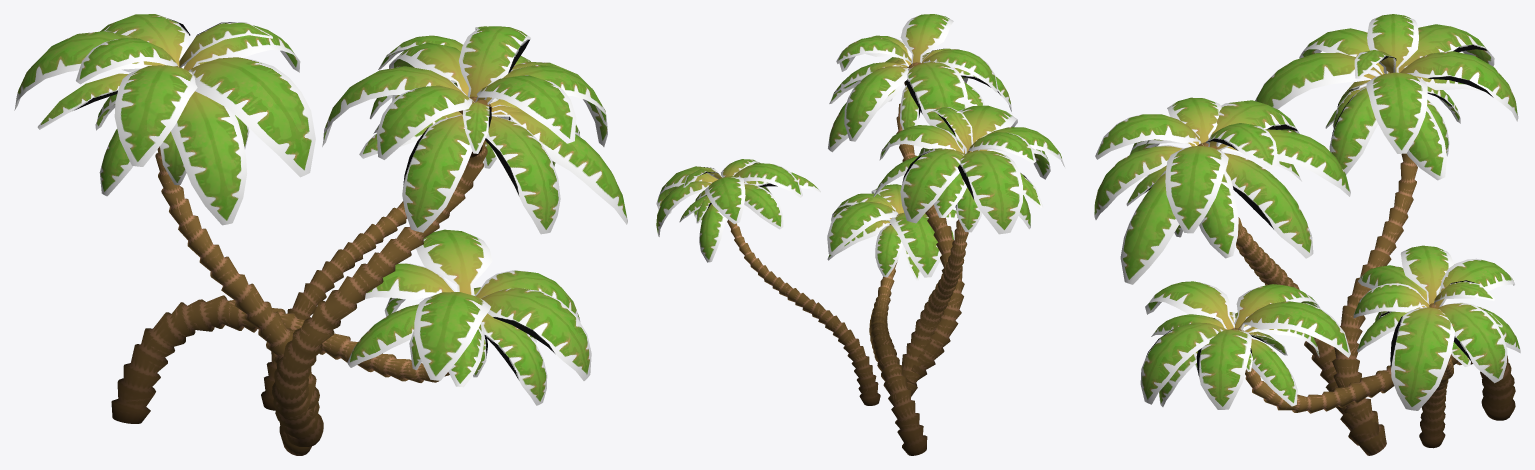
Rendered from coconut_trees_1.glb.
3 views of the same model, side by side, from view 1: azimuth 30°, elevation 25°; view 2: azimuth 150°, elevation 25°; view 3: azimuth 270°, elevation 25° (orthographic). The views are drawn at different scales.
Parts seen in each view (by area): view 1: PalmTreeSet_LP024, PalmTreeSet_LP020, PalmTreeSet_LP025, PalmTreeSet_LP011; view 2: PalmTreeSet_LP020, PalmTreeSet_LP024, PalmTreeSet_LP011, PalmTreeSet_LP025; view 3: PalmTreeSet_LP024, PalmTreeSet_LP020, PalmTreeSet_LP025, PalmTreeSet_LP011.
Part boxes in pixels (left/top/right/bottom): PalmTreeSet_LP024: left=272, top=26, right=627, bottom=447; PalmTreeSet_LP020: left=14, top=14, right=319, bottom=455; PalmTreeSet_LP025: left=111, top=229, right=591, bottom=423; PalmTreeSet_LP011: left=261, top=26, right=607, bottom=410; PalmTreeSet_LP020: left=873, top=105, right=1064, bottom=396; PalmTreeSet_LP024: left=828, top=14, right=1011, bottom=385; PalmTreeSet_LP011: left=656, top=159, right=880, bottom=405; PalmTreeSet_LP025: left=827, top=184, right=958, bottom=455; PalmTreeSet_LP024: left=1094, top=97, right=1379, bottom=445; PalmTreeSet_LP020: left=1255, top=14, right=1518, bottom=455; PalmTreeSet_LP025: left=1140, top=281, right=1515, bottom=420; PalmTreeSet_LP011: left=1353, top=245, right=1520, bottom=448.
Size of the model in its own units: 10.41 by 7.94 by 8.14.
Materials: 2 (2 with a texture image).
